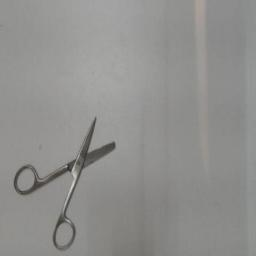Dressing Scissors: (10, 108, 124, 254)
